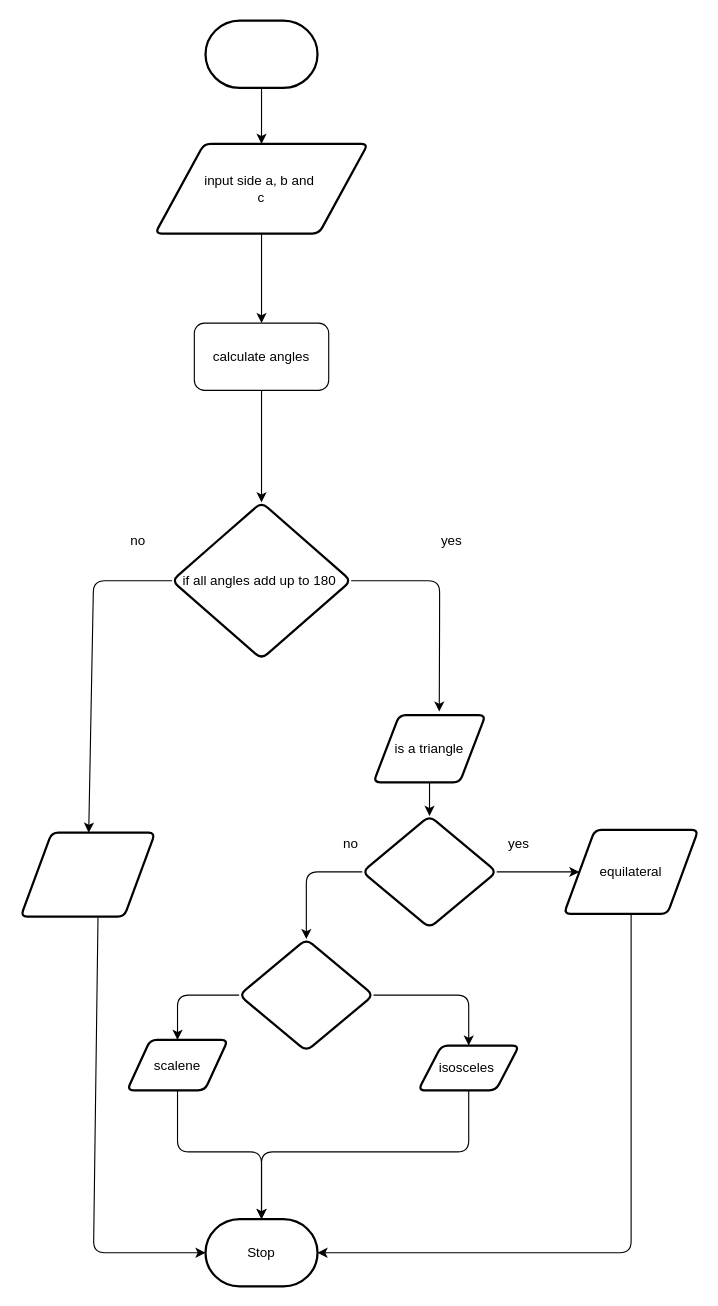
Image size: 718x1306. Some labels were removed from this diagram. Here are the shapes that lost their labels. From the top down, the centre of each, then its label:
point 261,53: Start
point 87,874: not a triangle
point 429,871: if side a=b && a=c && c=b
point 305,994: if side a=b
